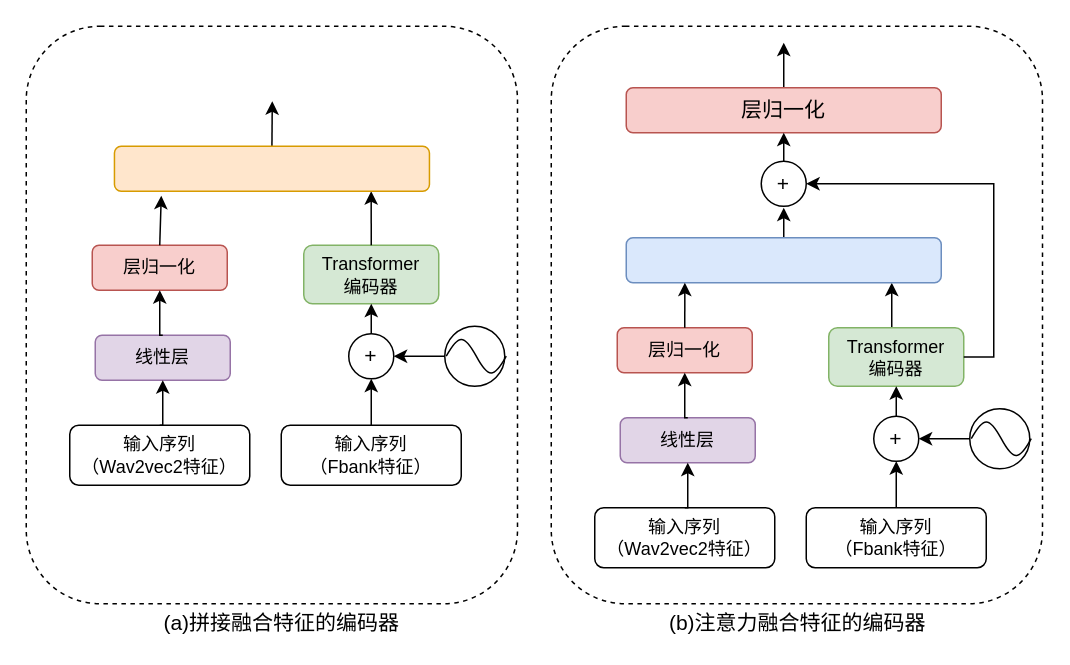
Image size: 1070x665. Some labels were removed from this diagram. Each missing label, with the centre of its shape:
"多头注意力" goes at pixel 783 259.
"拼接融合-L/F" goes at pixel 271 168.
